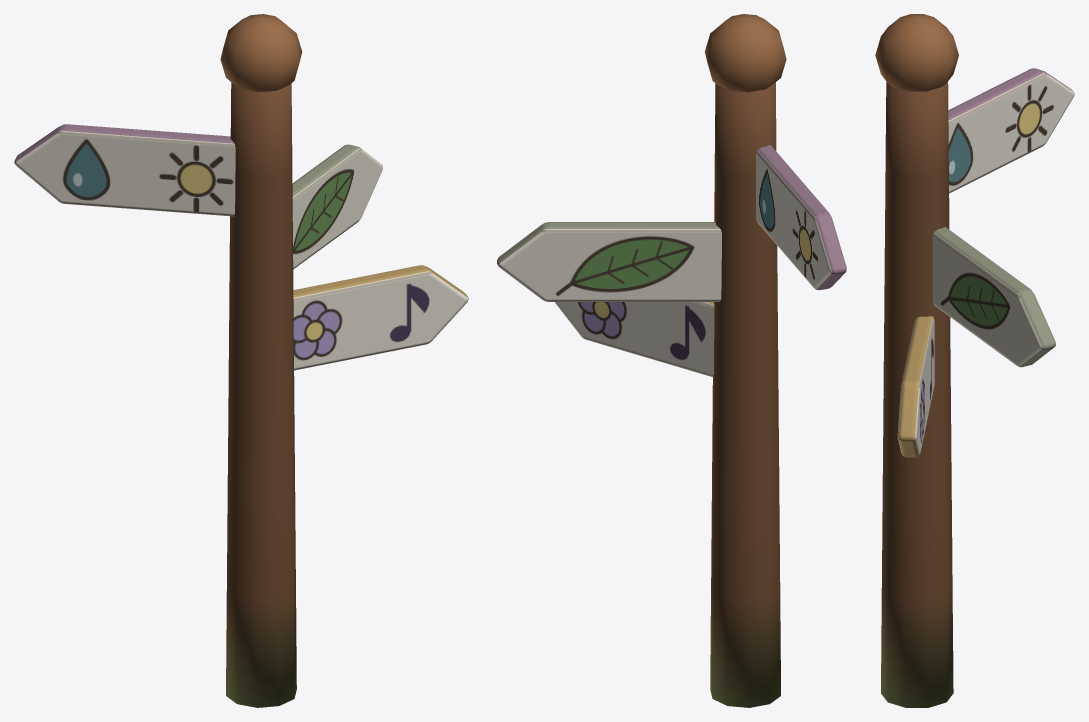
File: Kit_Calm_Signpost_01.glb
3 views of the same model, side by side, from view 1: azimuth 30°, elevation 25°; view 2: azimuth 150°, elevation 25°; view 3: azimuth 270°, elevation 25° (orthographic).
Visible parts, largest first — view 1: EX_Signpost_Wood; view 2: EX_Signpost_Wood; view 3: EX_Signpost_Wood.
Part boxes in pixels (<box>): EX_Signpost_Wood: <box>14,14,468,707</box>; EX_Signpost_Wood: <box>497,14,846,707</box>; EX_Signpost_Wood: <box>875,14,1074,707</box>.
Size of what is drawn, in the model's own units: 1.55 by 2.67 by 0.7136.
2 materials, 1 textured.
